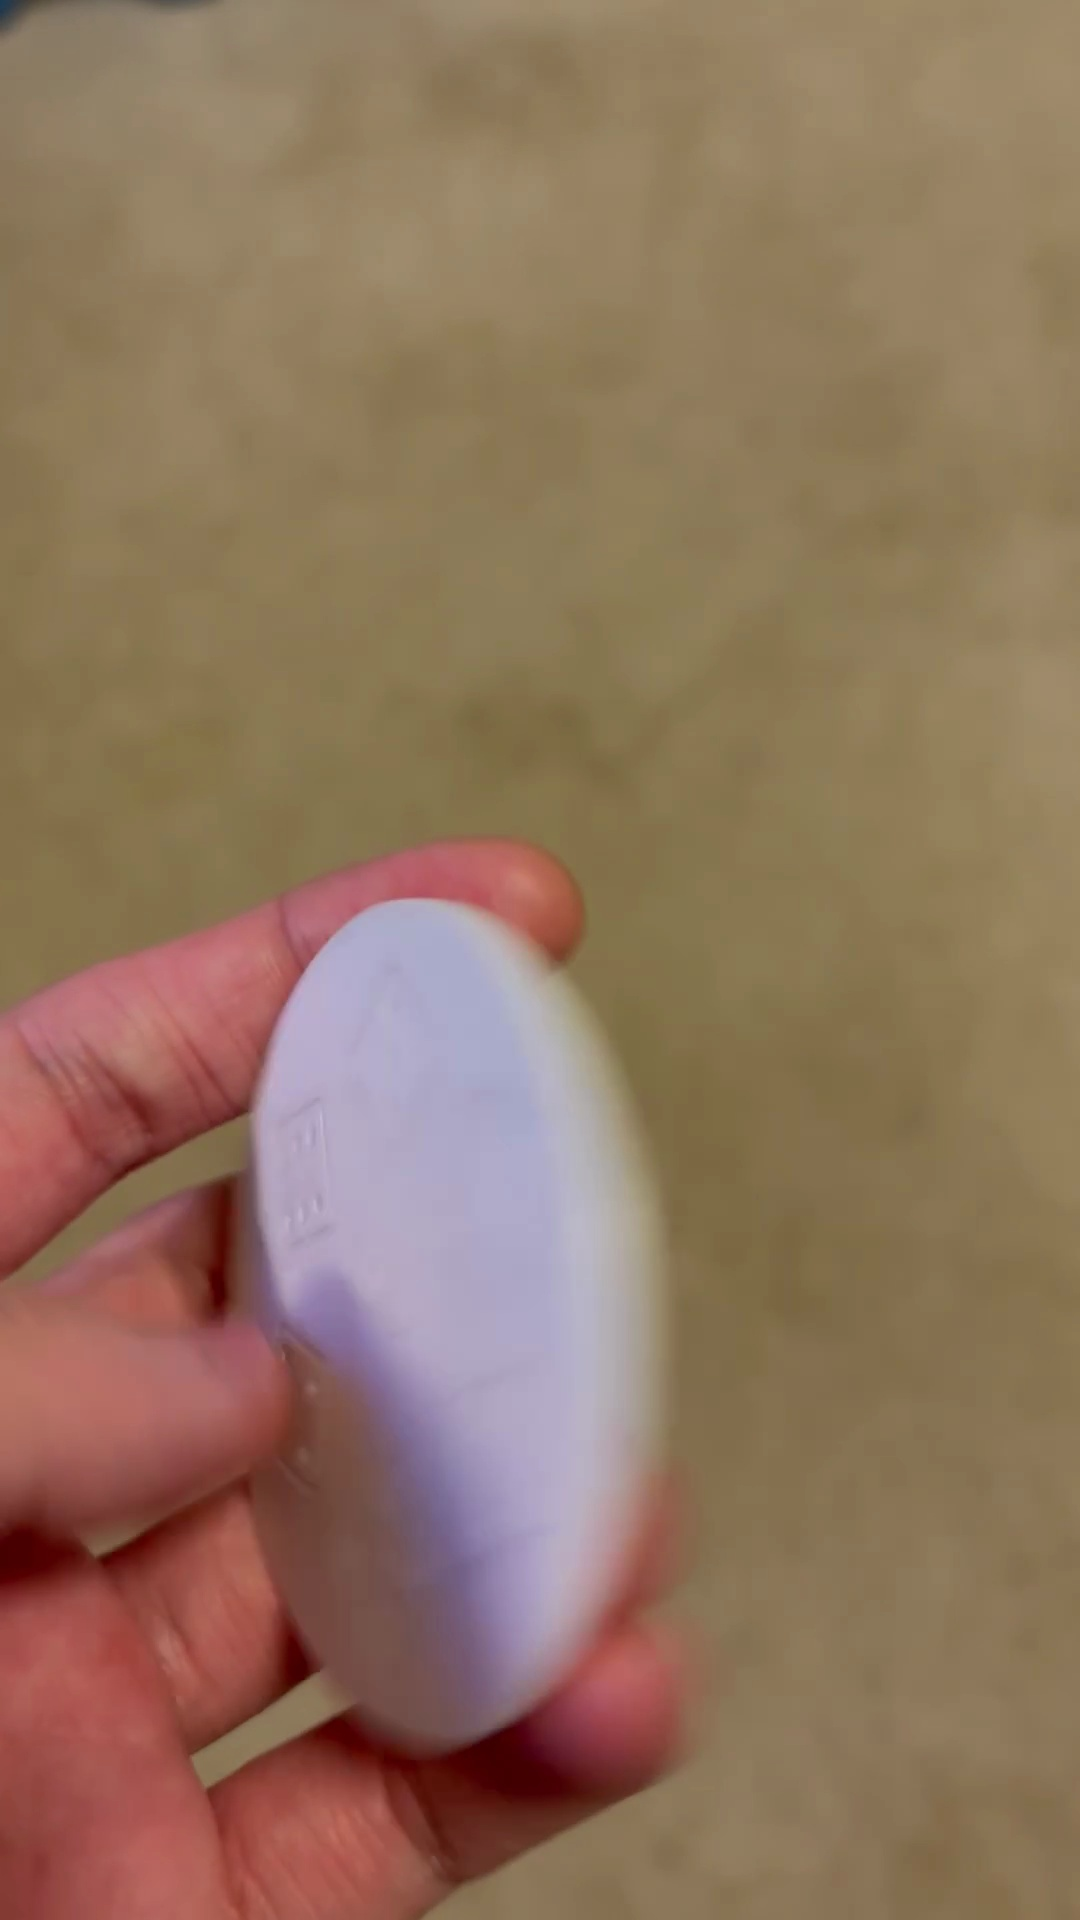Part1: (232, 900, 664, 1751)
